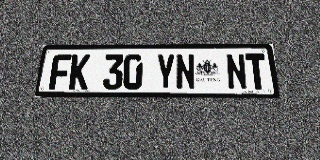0: (122, 54, 143, 90)
3: (103, 54, 124, 90)
F: (49, 54, 72, 90)
K: (68, 54, 90, 90)
N: (225, 54, 248, 90), (176, 54, 195, 90)
T: (245, 53, 268, 90)
Y: (156, 54, 175, 90)
